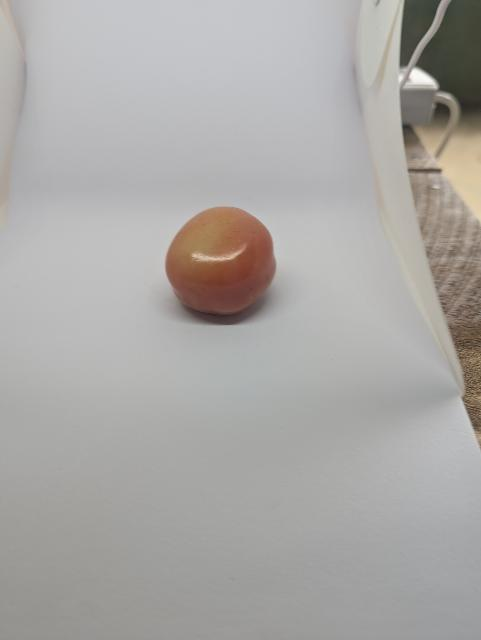turning: (162, 203, 283, 323)
